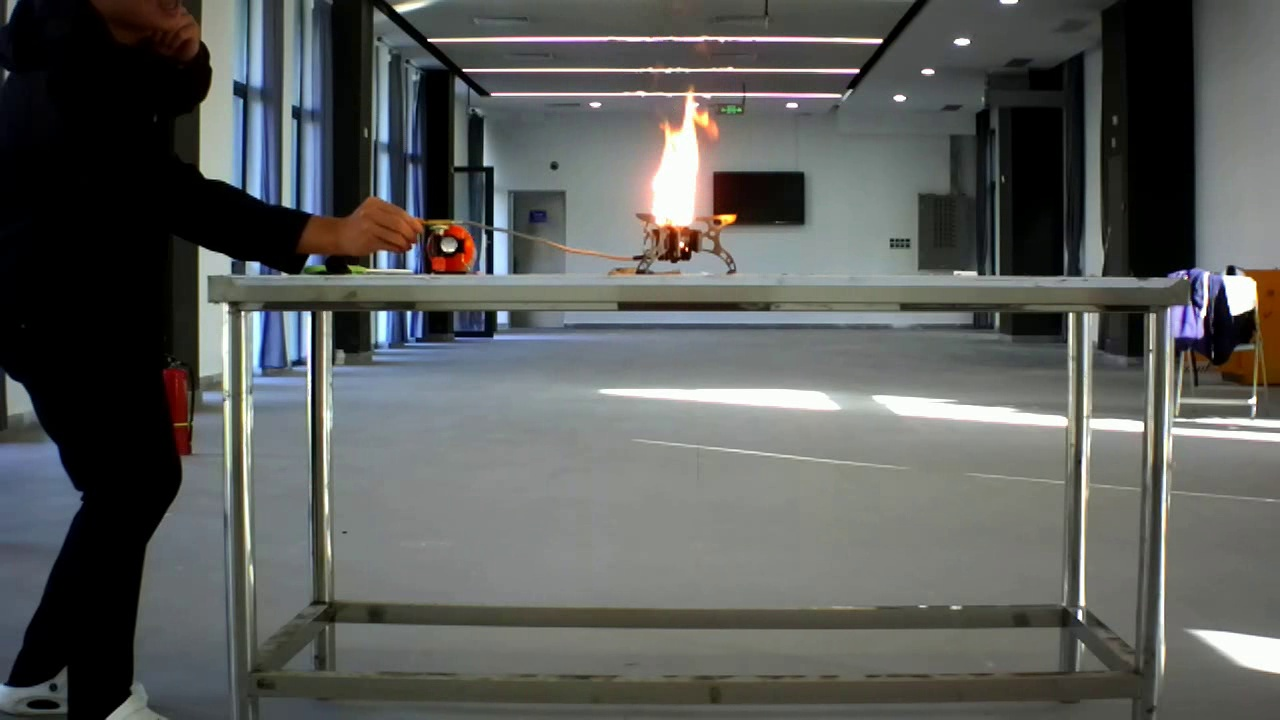Fire: (622, 88, 746, 270)
